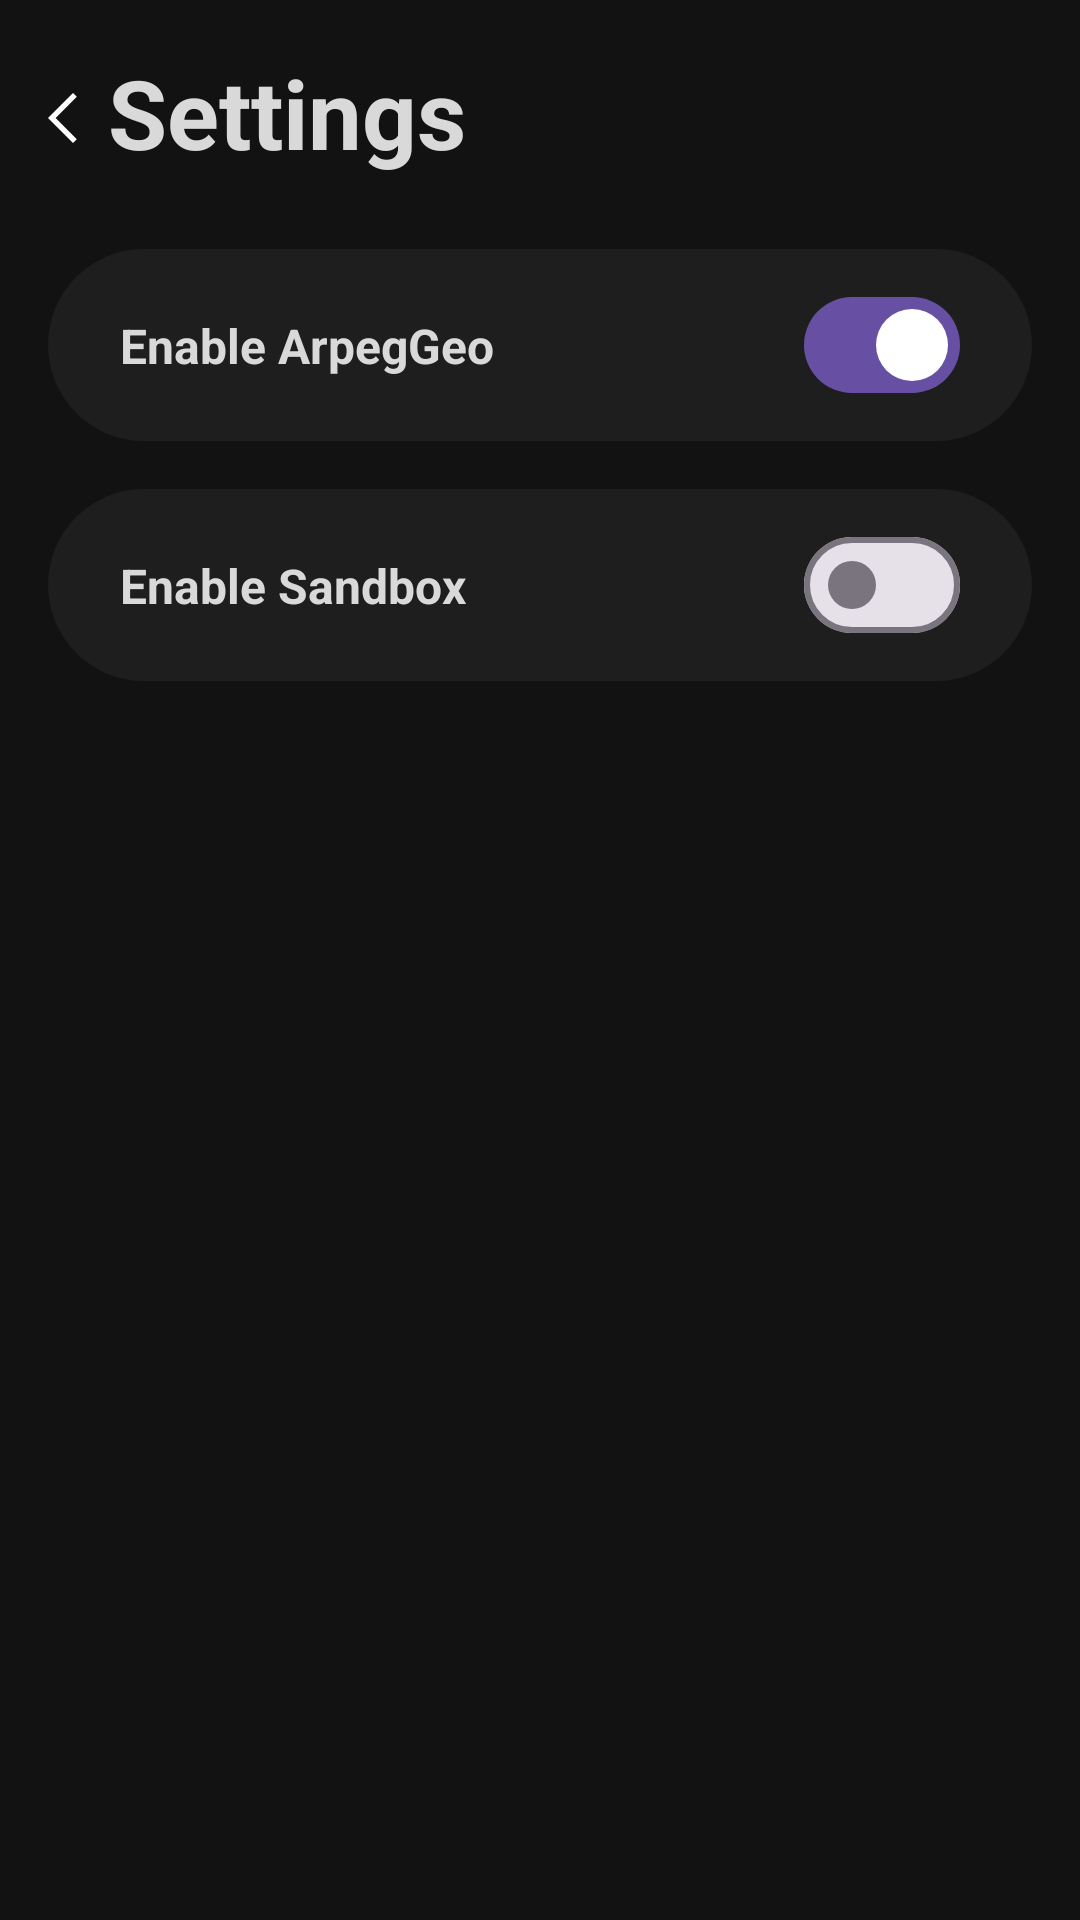

Icon click points for this 1080×1920 phone screenshot, format point (x, y):
back: point (62, 118)
